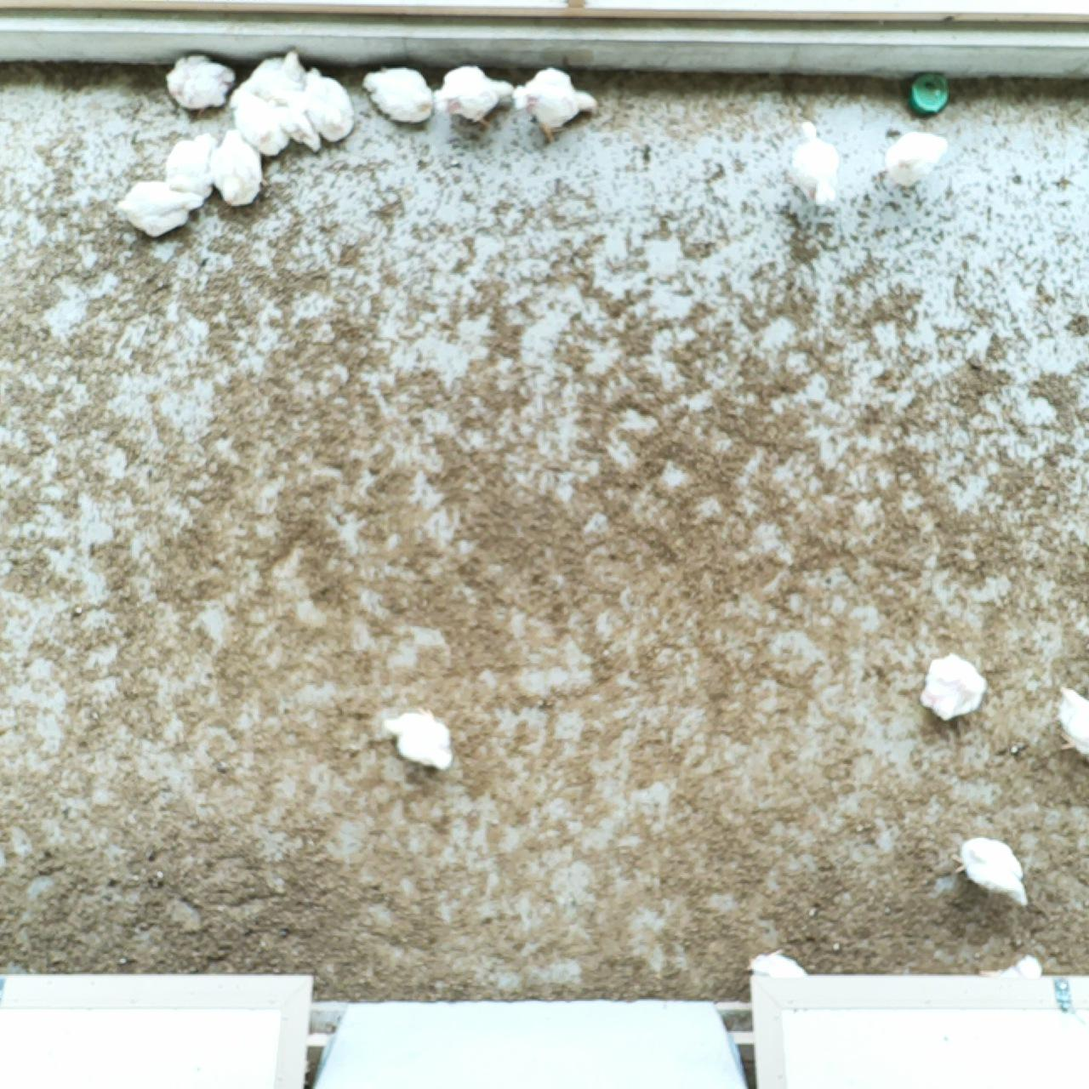chicken: (510, 62, 599, 146), (228, 92, 324, 161), (429, 64, 516, 132), (784, 115, 844, 212), (951, 833, 1029, 907), (115, 179, 203, 241), (917, 650, 989, 723), (383, 705, 454, 774), (359, 64, 438, 125), (299, 65, 357, 147), (205, 128, 263, 209), (881, 128, 951, 192), (236, 48, 308, 110), (161, 52, 232, 113), (161, 133, 220, 200), (1049, 681, 1089, 768), (745, 944, 810, 988), (979, 951, 1044, 985)
